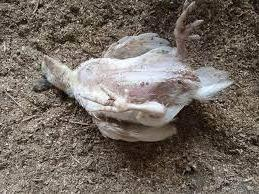AbNormal: (36, 0, 235, 143)
